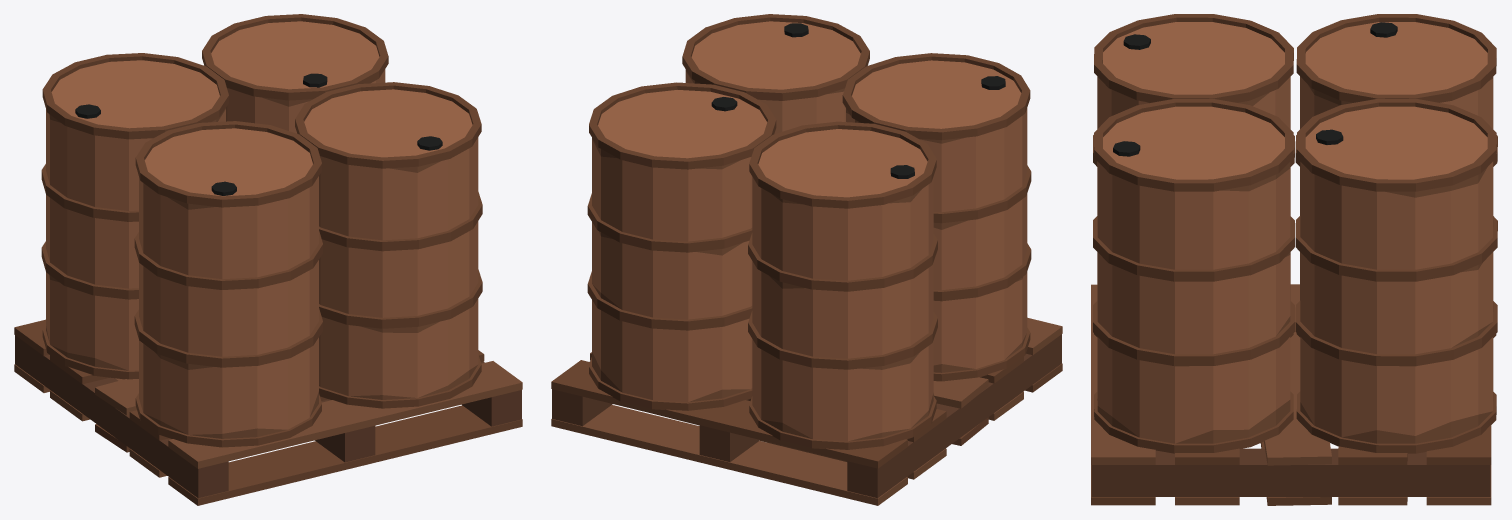
Rendered from SM_Props_Pallet_06.glb.
The picture shows the model from 3 angles, left to right: view 1: azimuth 30°, elevation 25°; view 2: azimuth 150°, elevation 25°; view 3: azimuth 270°, elevation 25°; orthographic projection. The views are drawn at different scales.
Visible parts, largest first — view 1: SM_Props_Pallet_06; view 2: SM_Props_Pallet_06; view 3: SM_Props_Pallet_06.
Part boxes in pixels (x1,y1,x2,y2): SM_Props_Pallet_06: (14,14,522,505); SM_Props_Pallet_06: (551,14,1062,505); SM_Props_Pallet_06: (1091,14,1497,505).
Bounding box in the file's own units: 1.22 × 1.03 × 1.2.
Materials: 1 (1 with a texture image).
